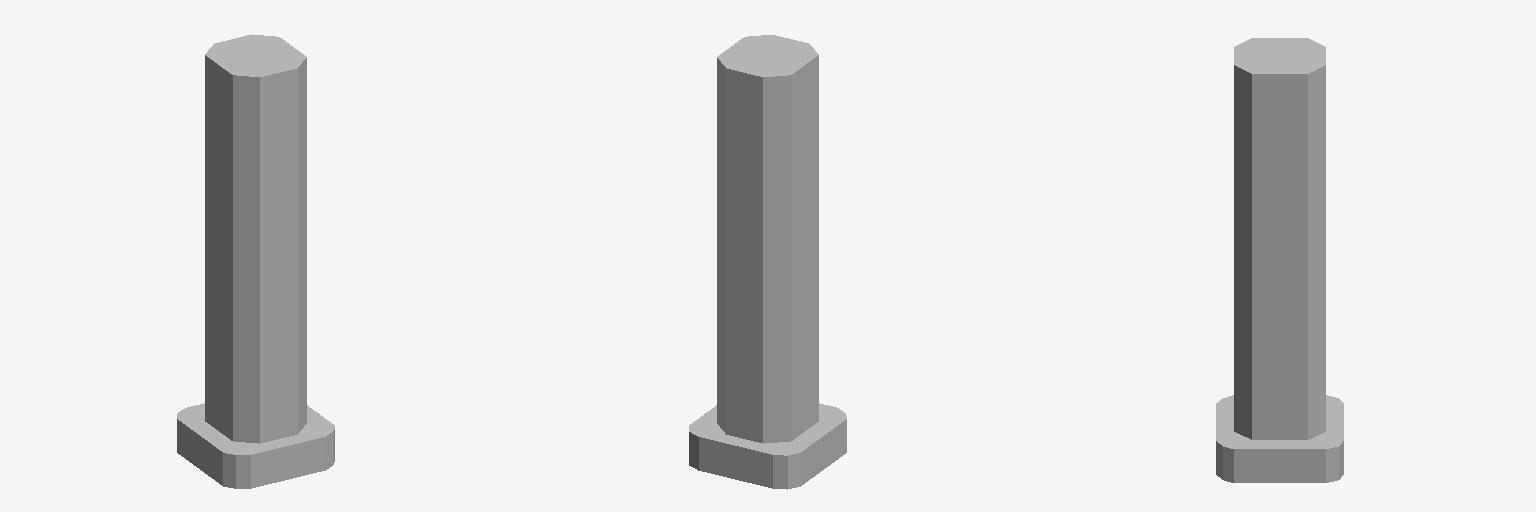
File: pillar.obj
3 views of the same model, side by side, from view 1: azimuth 30°, elevation 25°; view 2: azimuth 150°, elevation 25°; view 3: azimuth 270°, elevation 25° (orthographic).
Visible parts, largest first — view 1: Cube; view 2: Cube; view 3: Cube.
Part boxes in pixels (x1,y1,x2,y2): Cube: (177,34,334,488); Cube: (689,35,846,489); Cube: (1216,38,1343,482).
Size of the model in its own units: 2 by 6.84 by 2.